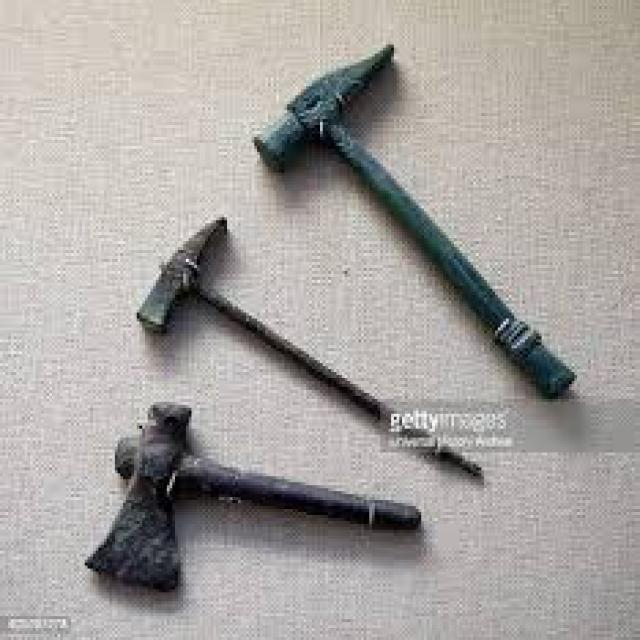hammer: (245, 37, 584, 418), (128, 201, 498, 484)
